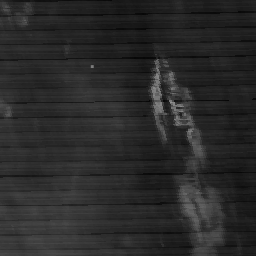Target: (89, 63, 95, 69)
